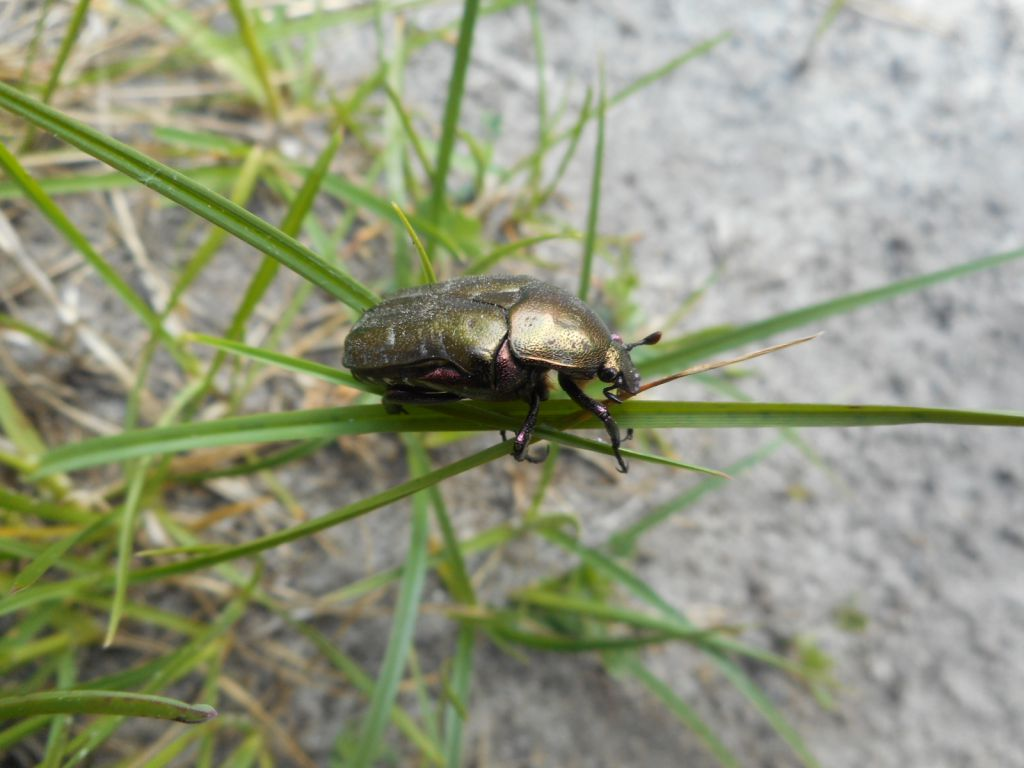Protaetia_metallica: (340, 271, 661, 477)
